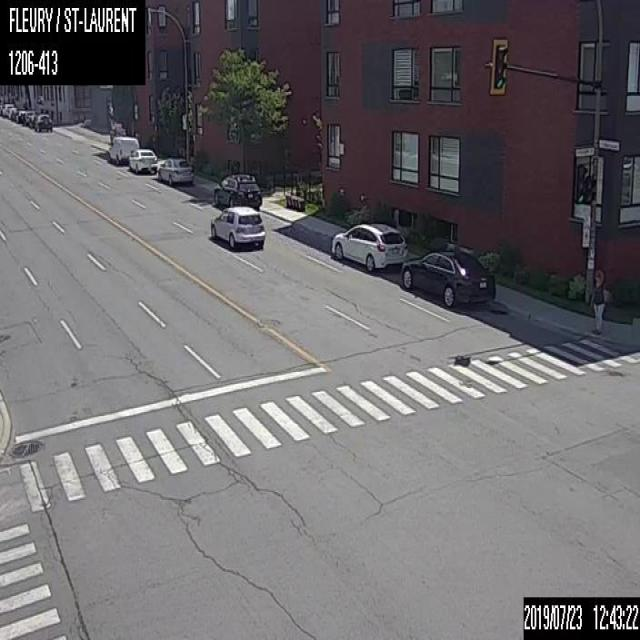pedestrian: (588, 270, 607, 334)
vehicle: (401, 244, 495, 308), (331, 222, 406, 270), (210, 206, 265, 250), (212, 173, 262, 210), (157, 157, 194, 184), (108, 136, 138, 164), (128, 148, 156, 174), (34, 113, 52, 132), (2, 103, 13, 116)
